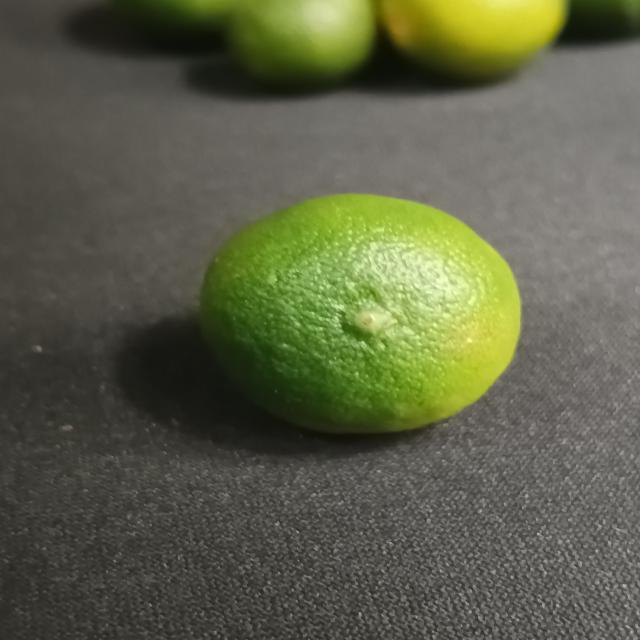heathy: (192, 195, 526, 436)
